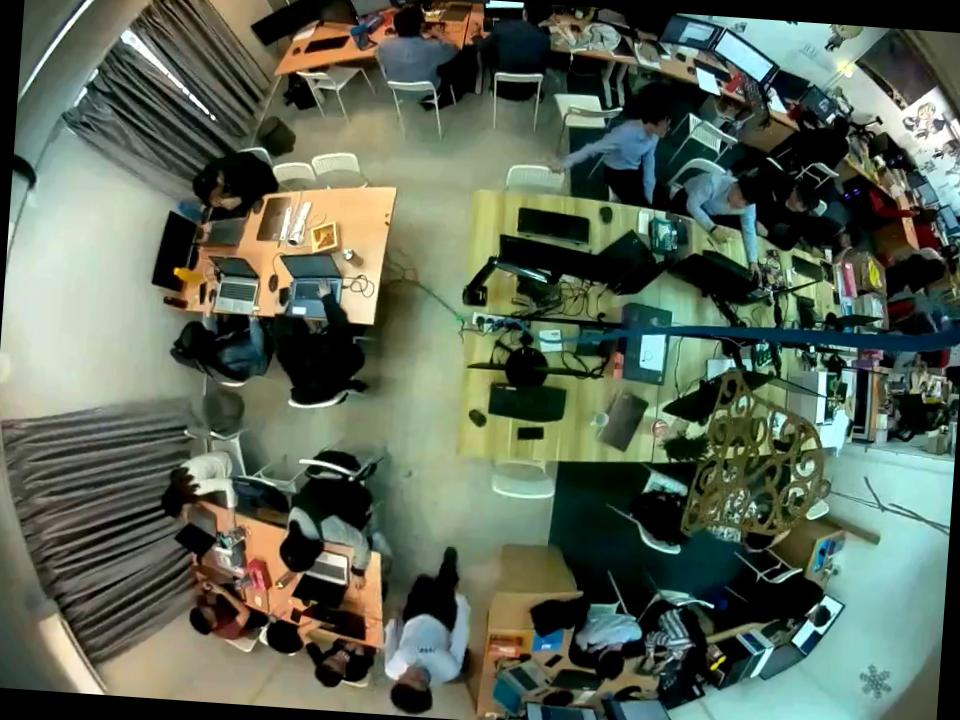employee_tag: (418, 643, 434, 655)
